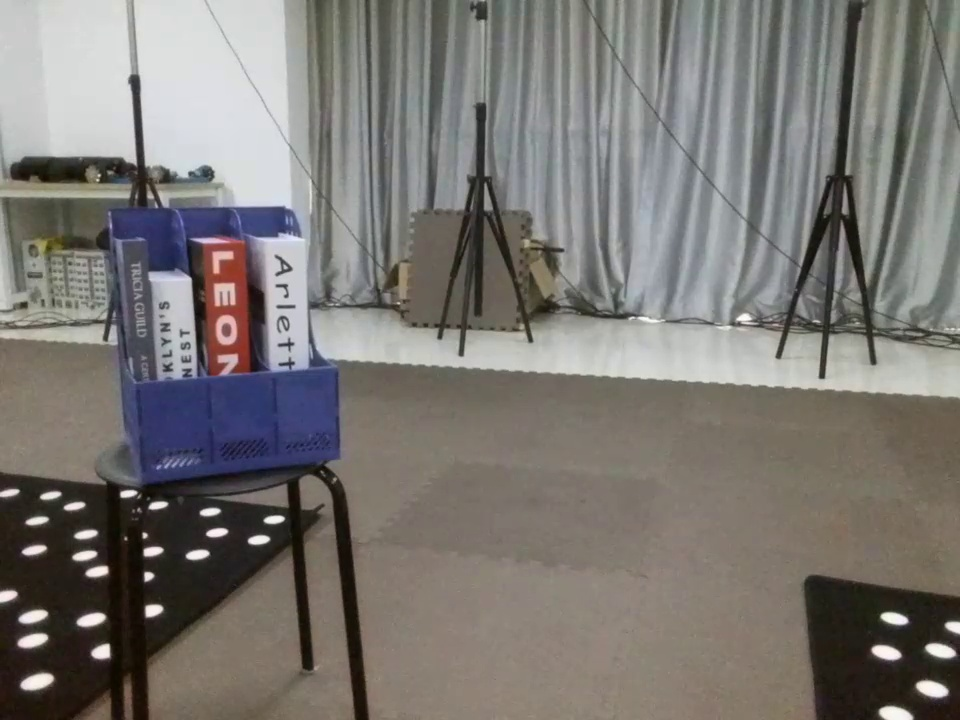files: (96, 202, 354, 490)
